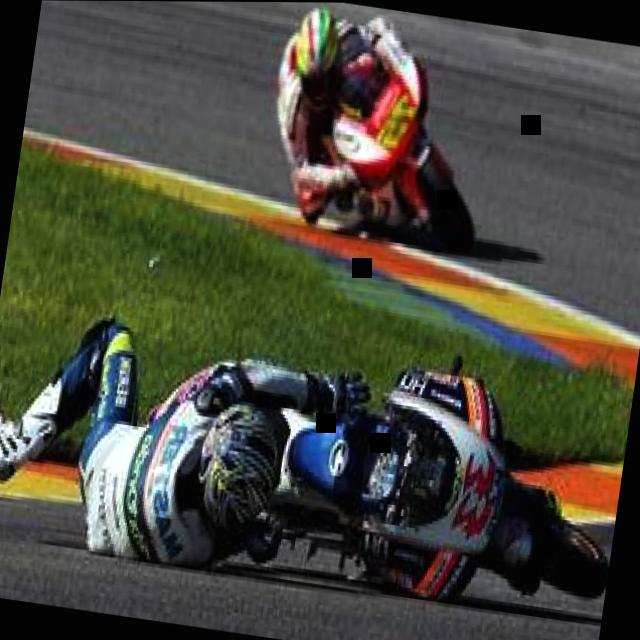Fall-Detected: (244, 1, 524, 269)
